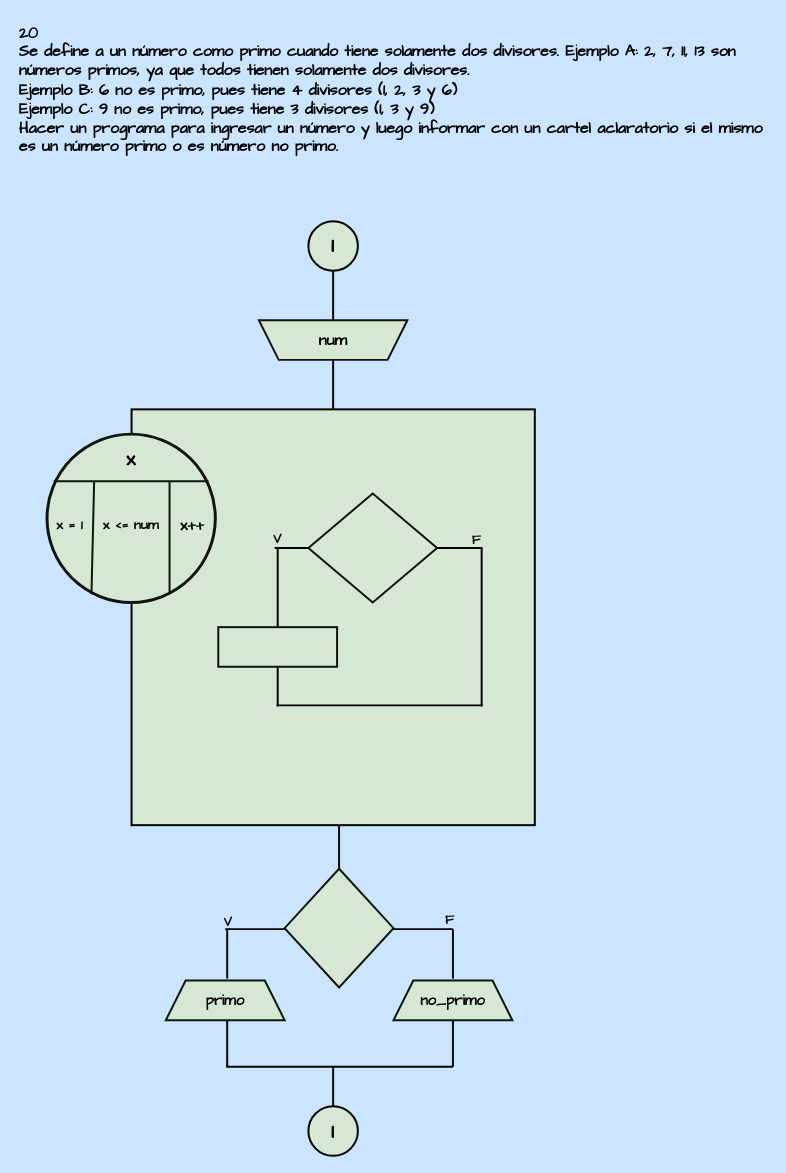
Image size: 786x1173. Some labels were removed from this diagram. Each missing label, with the box of its shape:
can_div++: (217, 626, 338, 667)
con_div == 2: (283, 867, 394, 988)
num % x == 0: (307, 492, 438, 603)
